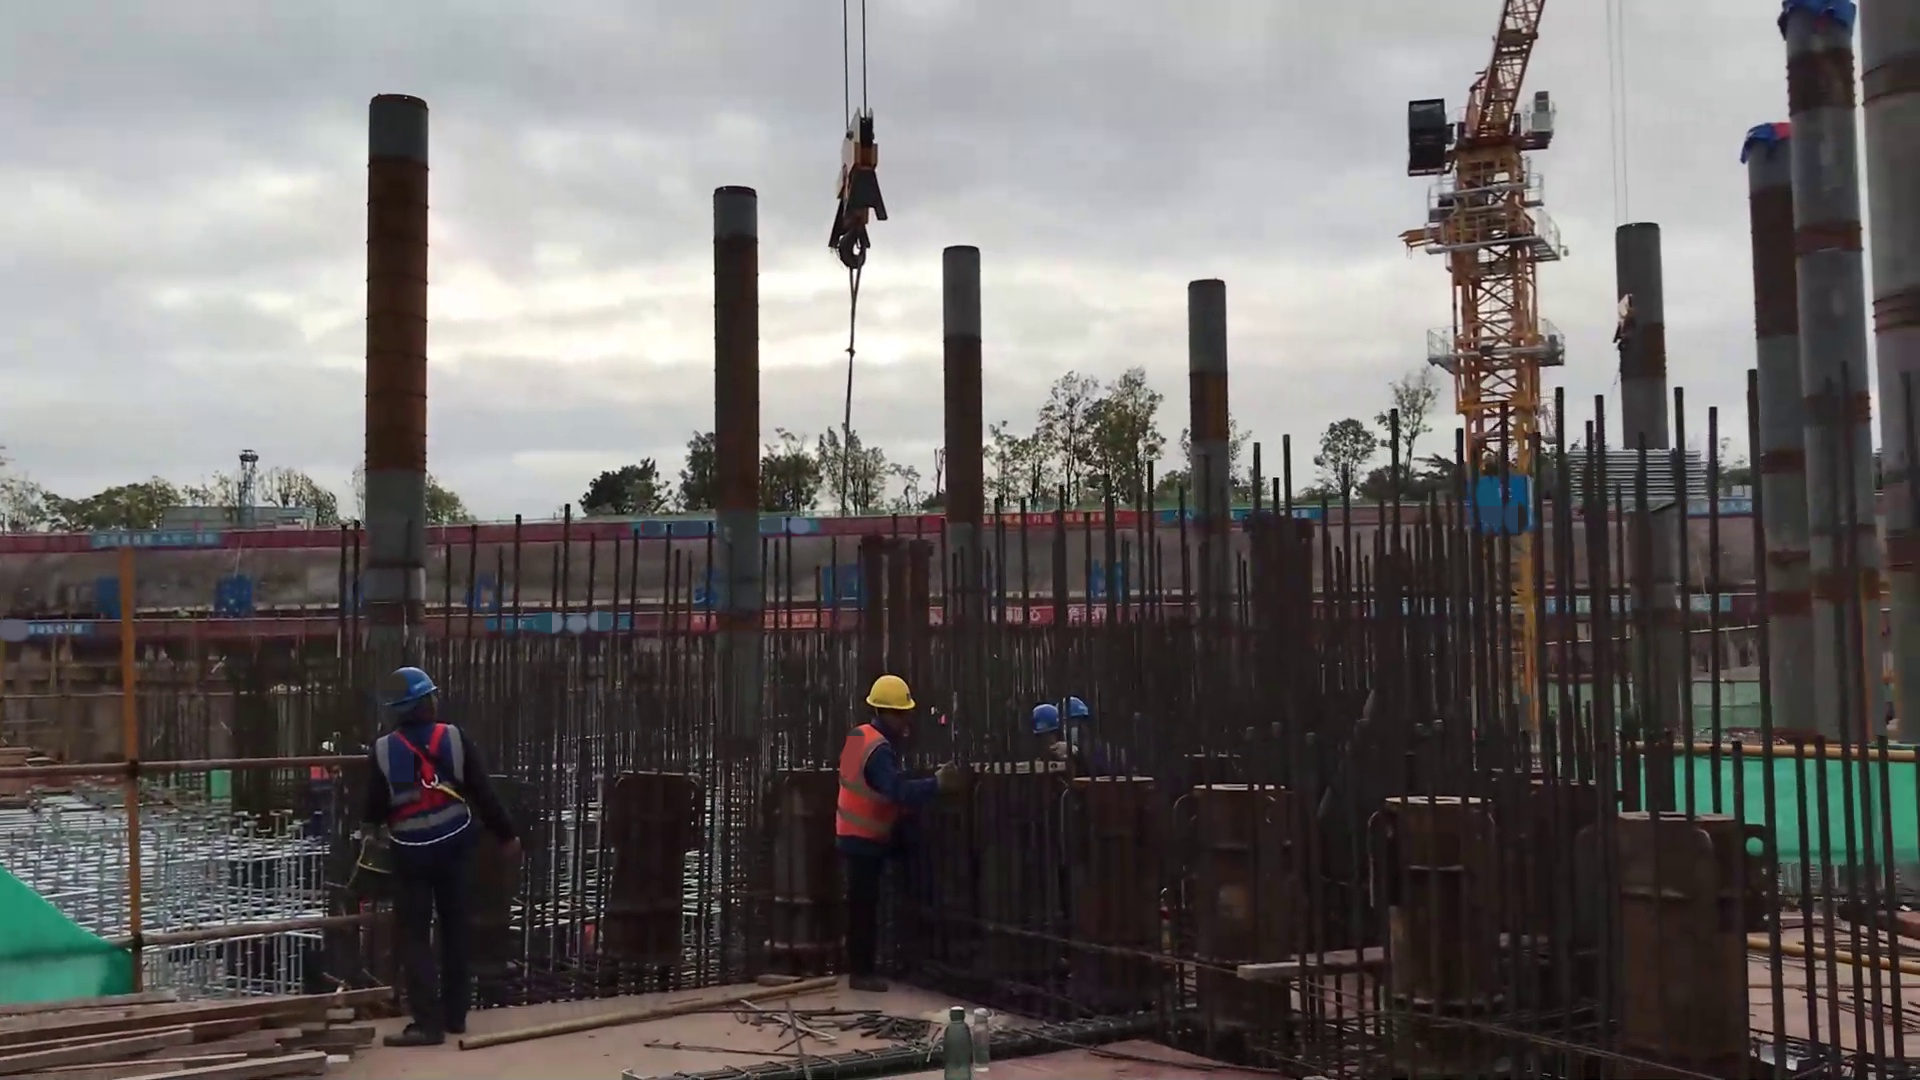helmet: (380, 663, 444, 712), (1022, 691, 1087, 734), (863, 670, 916, 716)
hook: (816, 110, 895, 275)
person: (360, 666, 525, 1049), (830, 670, 963, 998), (1026, 695, 1132, 778)
vest: (366, 723, 471, 838), (833, 725, 895, 851)
